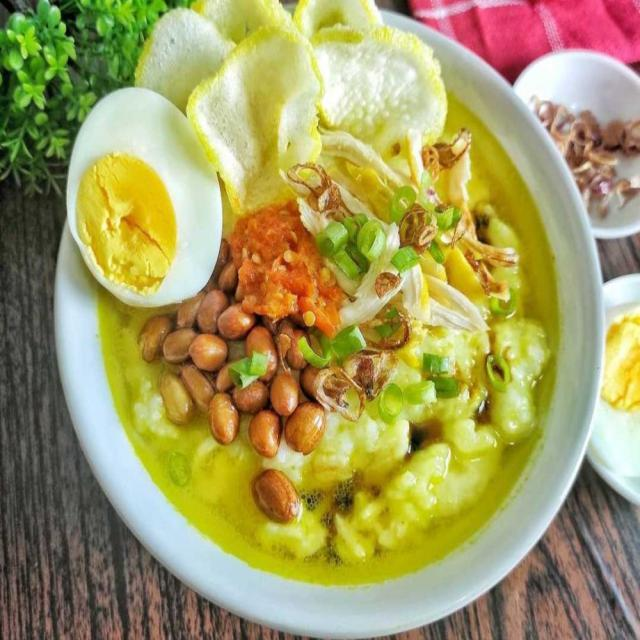bubur ayam: (103, 2, 562, 592)
mangkuk: (46, 2, 606, 638), (512, 49, 640, 241)
telur rebus: (64, 86, 222, 310)
